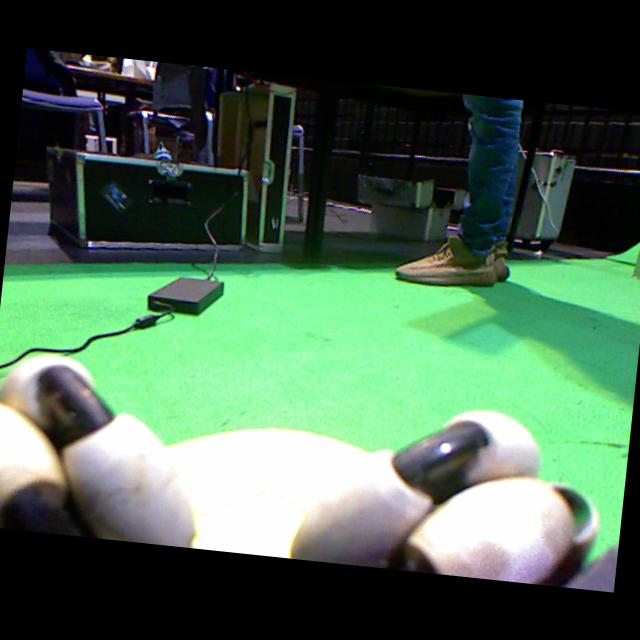ball: (162, 427, 371, 556)
